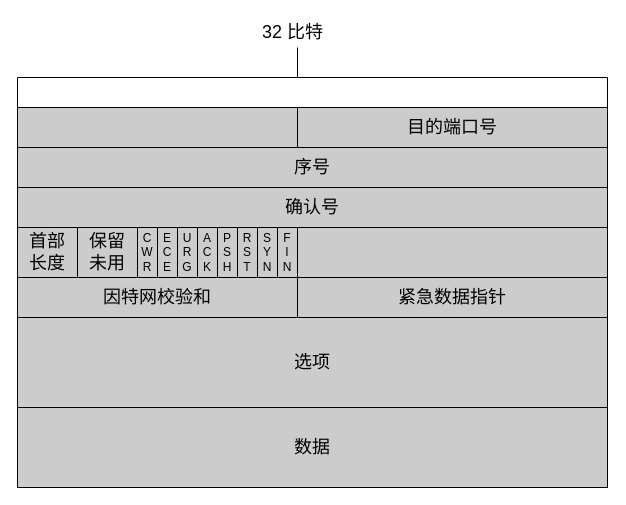
Image size: 626x505. Some labels were removed from this diagram. The centre of each missing label's shape, as x and y in pixels:
"接收窗口" goes at point 452,252.
"源端口号" goes at point 157,127.
